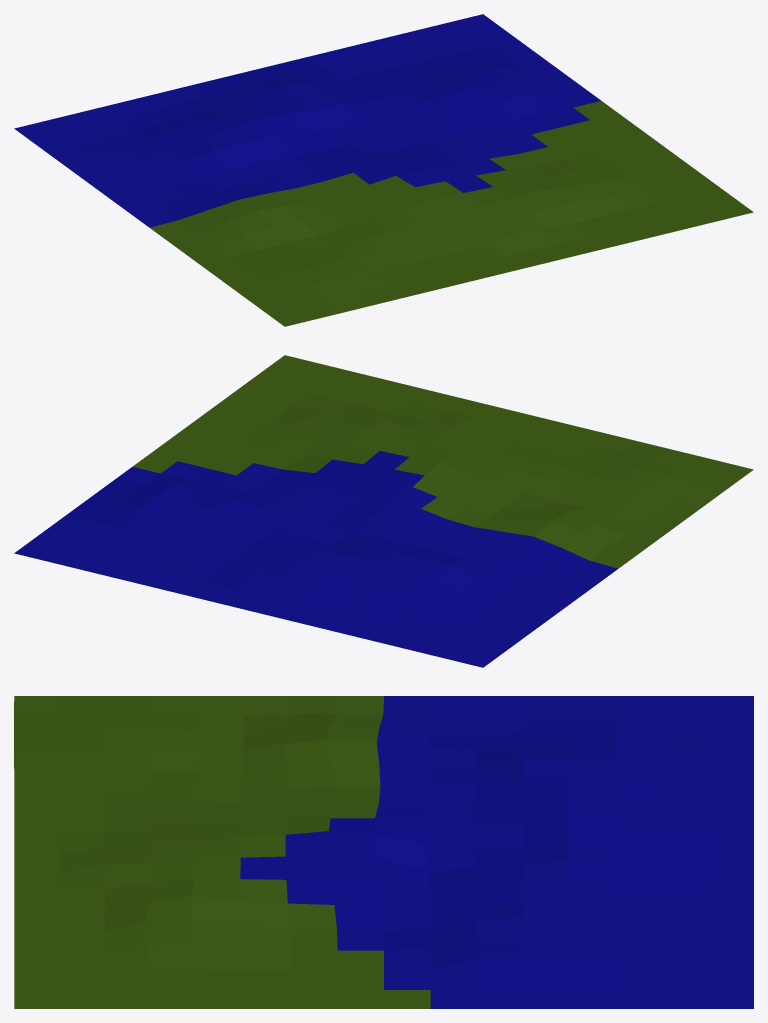
Rendered from Grass-Water5.FBX.
The picture shows the model from 3 angles, top to bottom: view 1: azimuth 30°, elevation 25°; view 2: azimuth 150°, elevation 25°; view 3: azimuth 270°, elevation 25°; orthographic projection. The views are drawn at different scales.
Parts seen in each view (by area): view 1: Terrain.004; view 2: Terrain.004; view 3: Terrain.004.
Boxes of the visible parts, bbox=[...] form: Terrain.004: bbox=[14, 14, 753, 326]; Terrain.004: bbox=[14, 355, 753, 667]; Terrain.004: bbox=[14, 696, 753, 1008].
Size of the model in its own units: 800 by 800 by 23.83.
